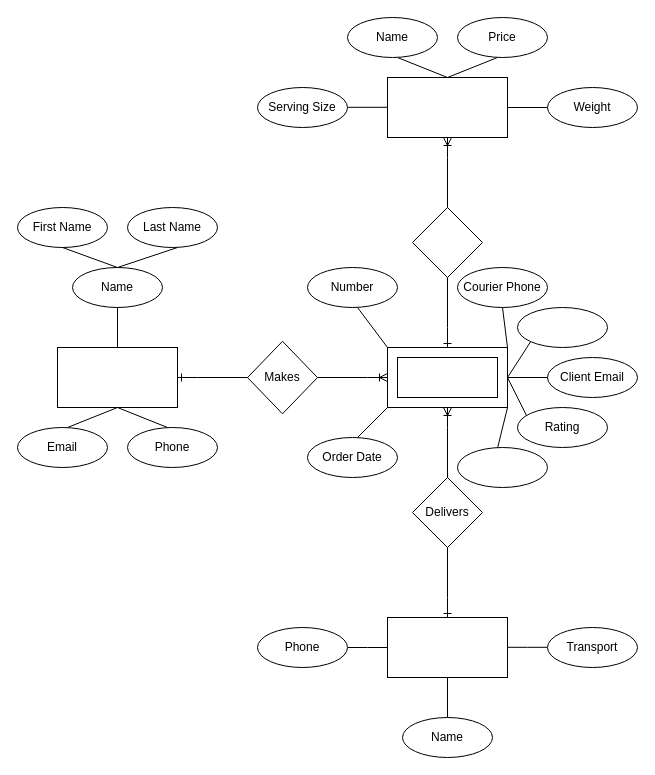
Image size: 655x775. Some labels were removed from this diagram. The centre of each missing label's shape, as x and y in pixels:
Client: the point at 117,377
Contains: the point at 447,242
Courier: the point at 447,647
Delivery Address: the point at 502,467
Delivery Date: the point at 562,327
Meal: the point at 447,107
Order: the point at 447,377
